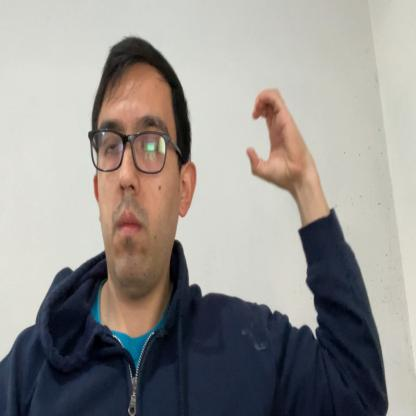C: (246, 87, 306, 190)
